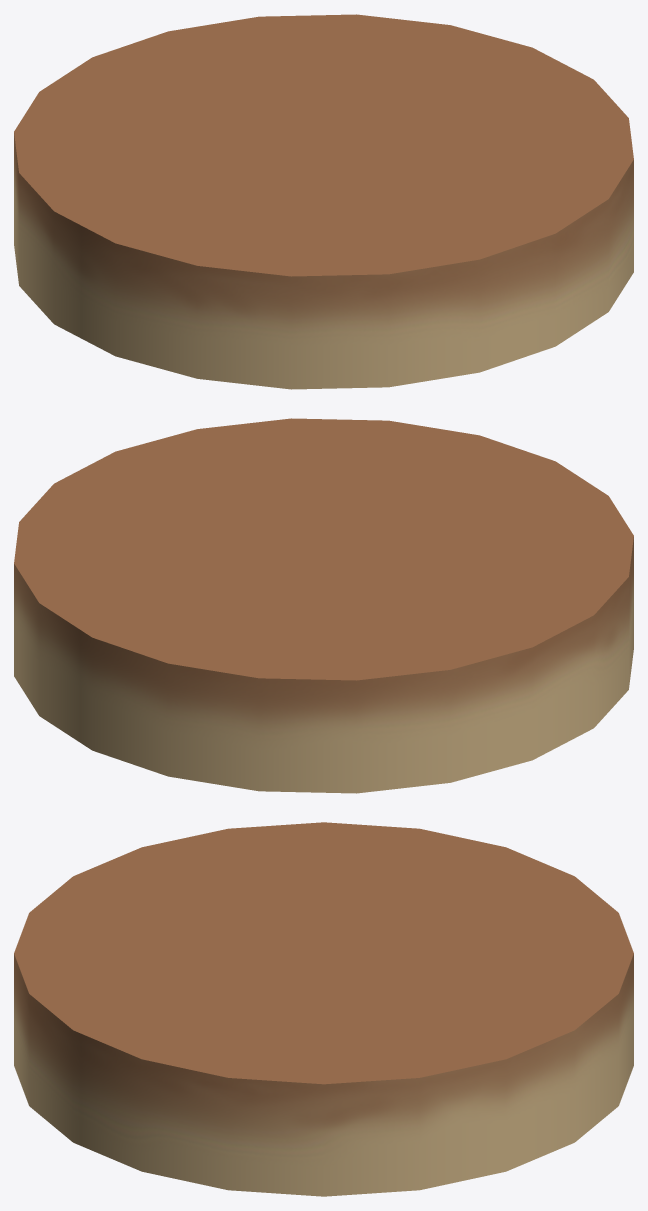
File: upBakeCake.fbx
3 views of the same model, one above another, from view 1: azimuth 30°, elevation 25°; view 2: azimuth 150°, elevation 25°; view 3: azimuth 270°, elevation 25° (orthographic).
Visible parts, largest first — view 1: pCylinder1; view 2: pCylinder1; view 3: pCylinder1.
Part boxes in pixels (x1,y1,x2,y2): pCylinder1: (14, 14, 633, 389); pCylinder1: (14, 418, 633, 793); pCylinder1: (14, 822, 633, 1196).
Bounding box in the file's own units: 8 × 1.6 × 8.
